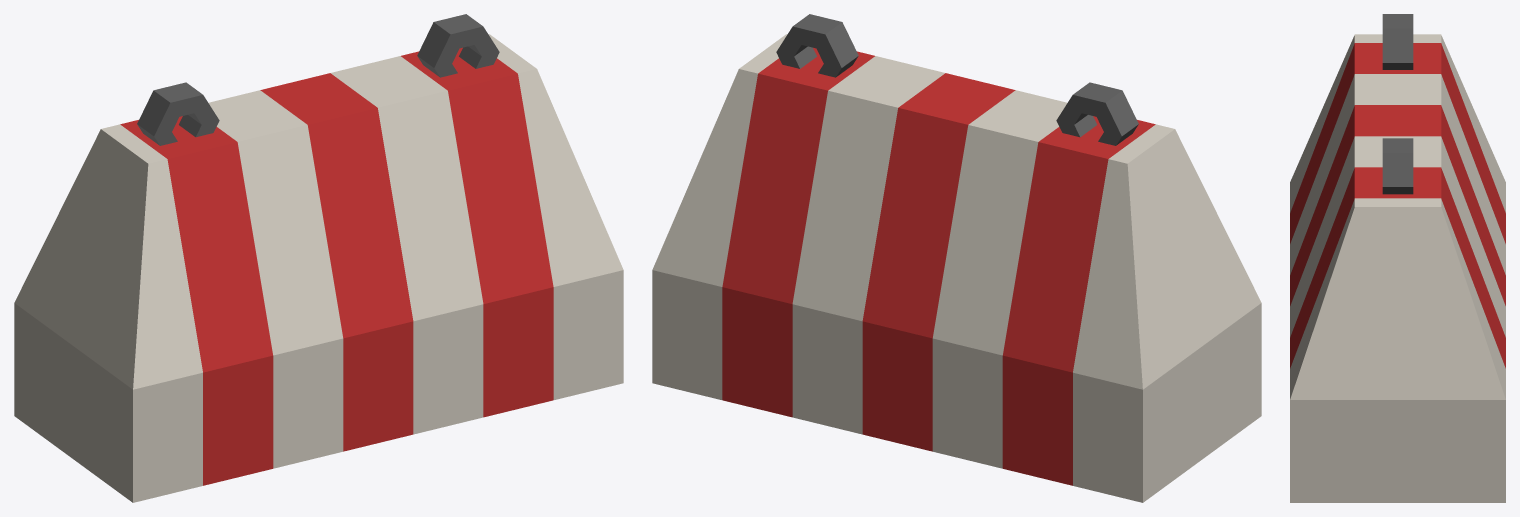
Rendered from Road_Barrier.fbx.
3 renders of one model, left to right at view 1: azimuth 30°, elevation 25°; view 2: azimuth 150°, elevation 25°; view 3: azimuth 270°, elevation 25°, orthographic. The views are drawn at different scales.
Visible parts, largest first — view 1: Road_Barrier; view 2: Road_Barrier; view 3: Road_Barrier.
Boxes of the visible parts, left/top/right/bottom form: Road_Barrier: left=14, top=14, right=623, bottom=502; Road_Barrier: left=652, top=14, right=1261, bottom=502; Road_Barrier: left=1290, top=14, right=1505, bottom=502.
Bounding box in the file's own units: 214 × 142 × 89.56.
1 material, 1 textured.
